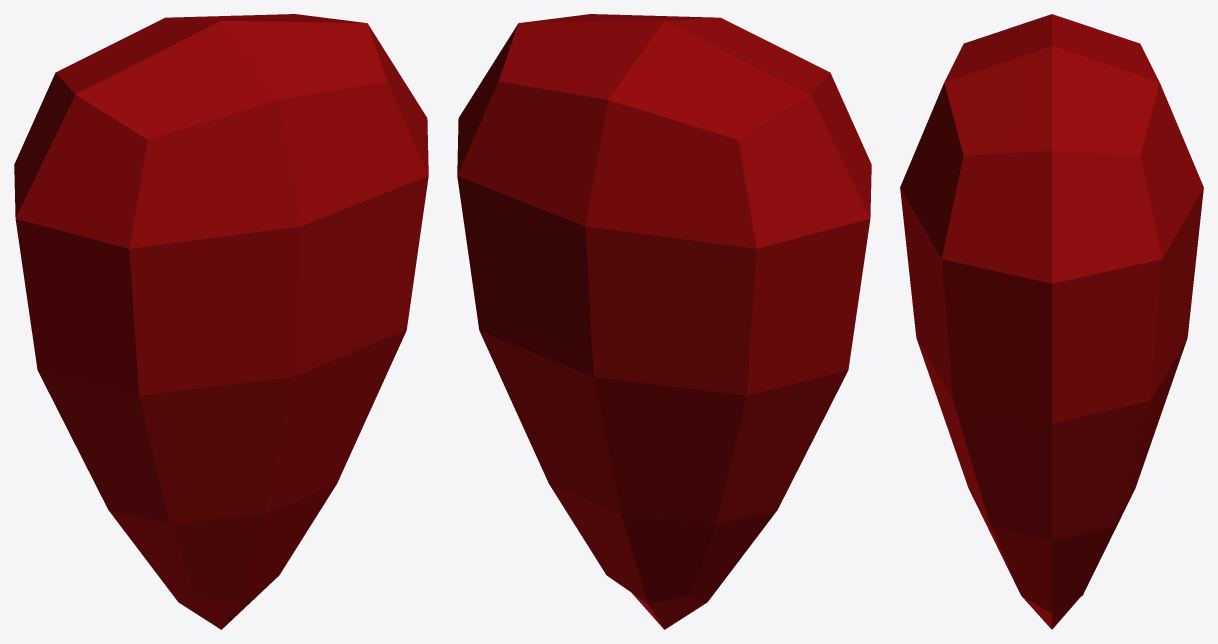
File: ruby.fbx
3 views of the same model, side by side, from view 1: azimuth 30°, elevation 25°; view 2: azimuth 150°, elevation 25°; view 3: azimuth 270°, elevation 25° (orthographic). The views are drawn at different scales.
Visible parts, largest first — view 1: Cube; view 2: Cube; view 3: Cube.
Part boxes in pixels (bbox=[...]): Cube: bbox=[14, 14, 428, 629]; Cube: bbox=[457, 14, 871, 629]; Cube: bbox=[900, 14, 1203, 629].
Size of the model in its own units: 223 by 316 by 149.
